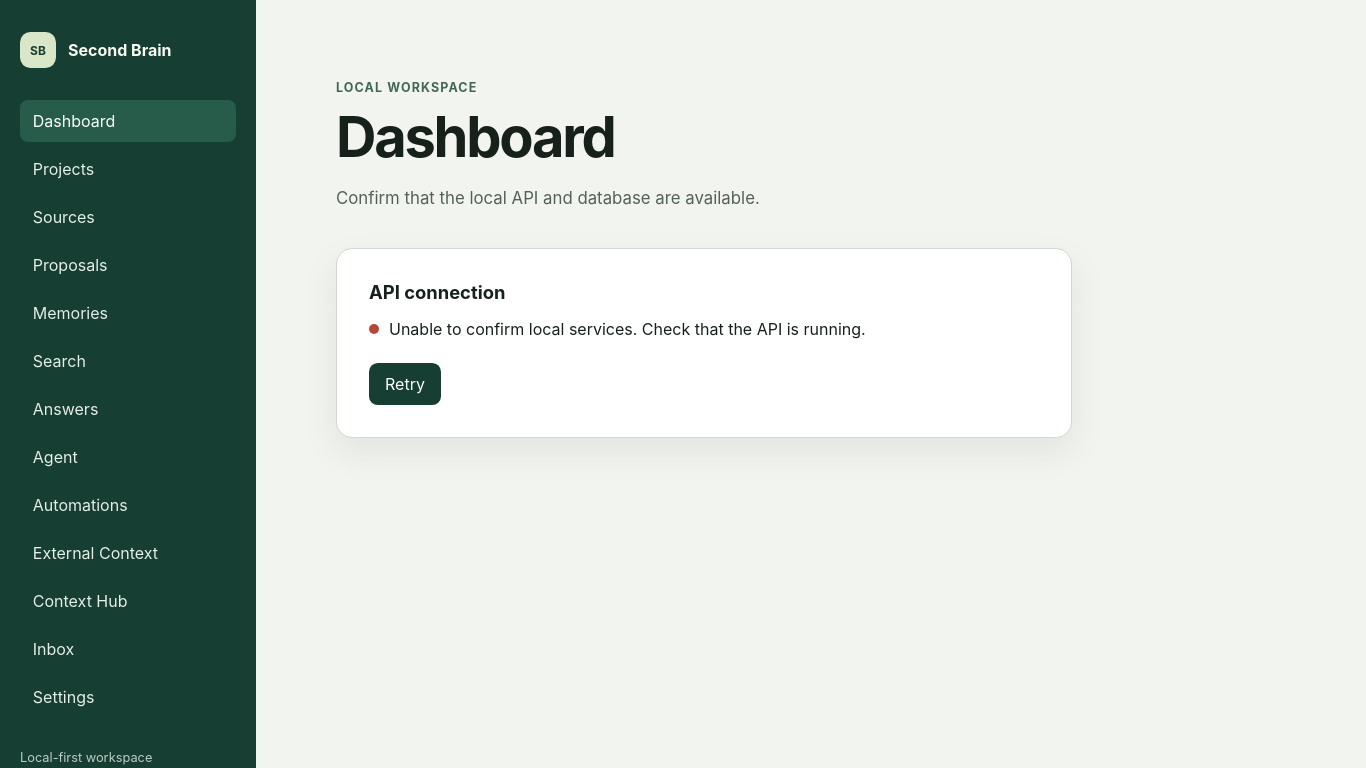
application shell › opens the functional Sources screen from navigation
Click the link "Sources" at (64, 217), box [33,207,95,227]
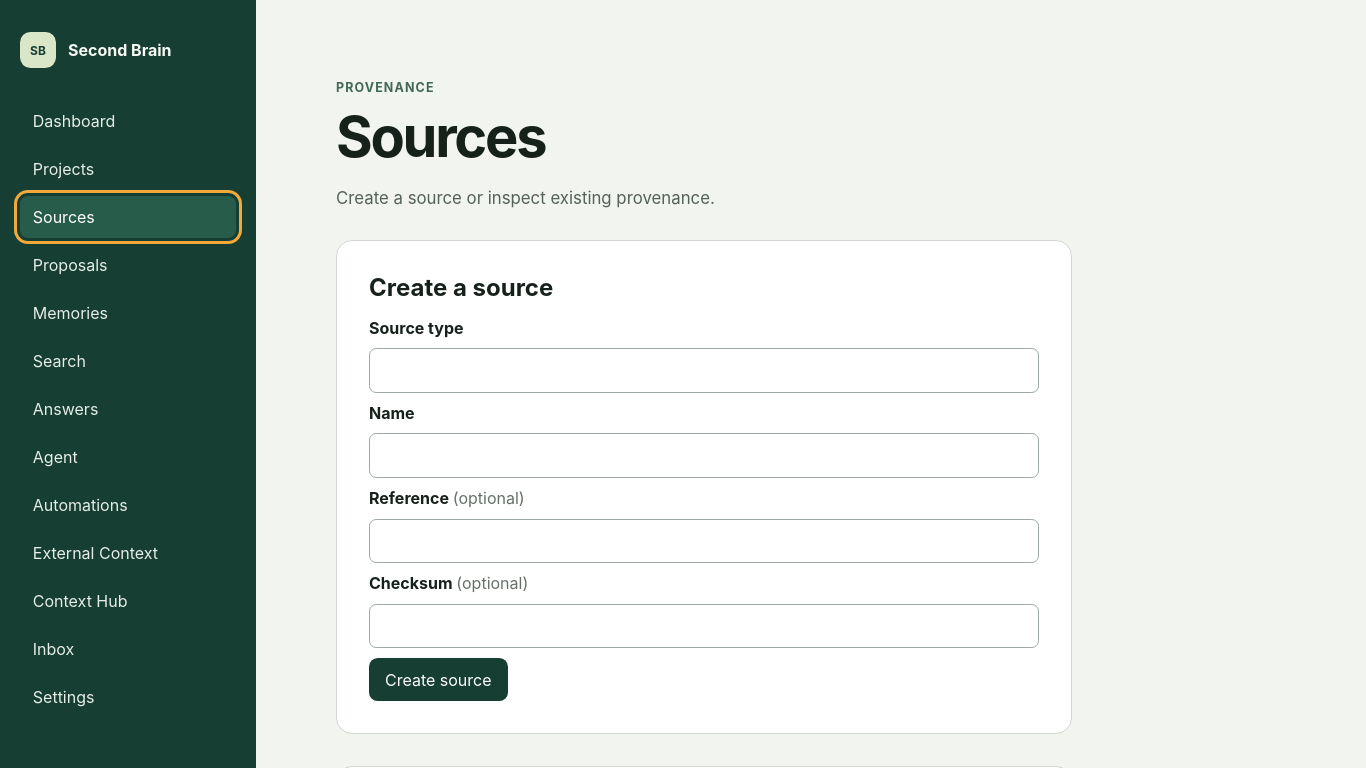
Now the heading "Create a source" is shown, box [369,273,553,302]
